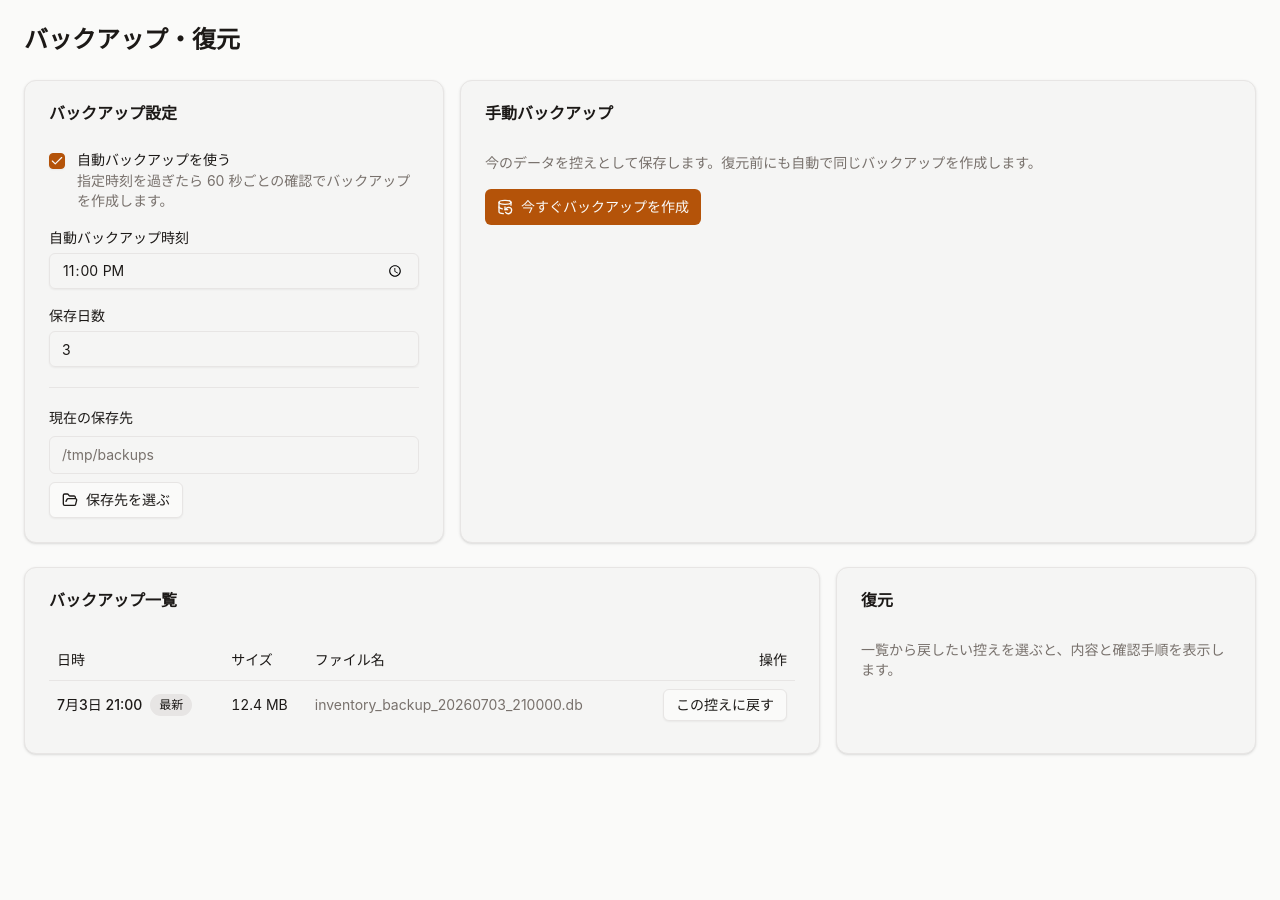
Test: BackupRestorePage (UI-11b / QR-05 / REQ-905) › QR-05 REQ-905 branches restore failures by CmdError kind
Expected: the heading "バックアップ・復元" is shown, [24, 25, 240, 54]
Expected: the text "7月3日 21:00" is shown, [57, 696, 142, 712]
Click the button "この控えに戻す" at (725, 704), box [663, 688, 787, 720]
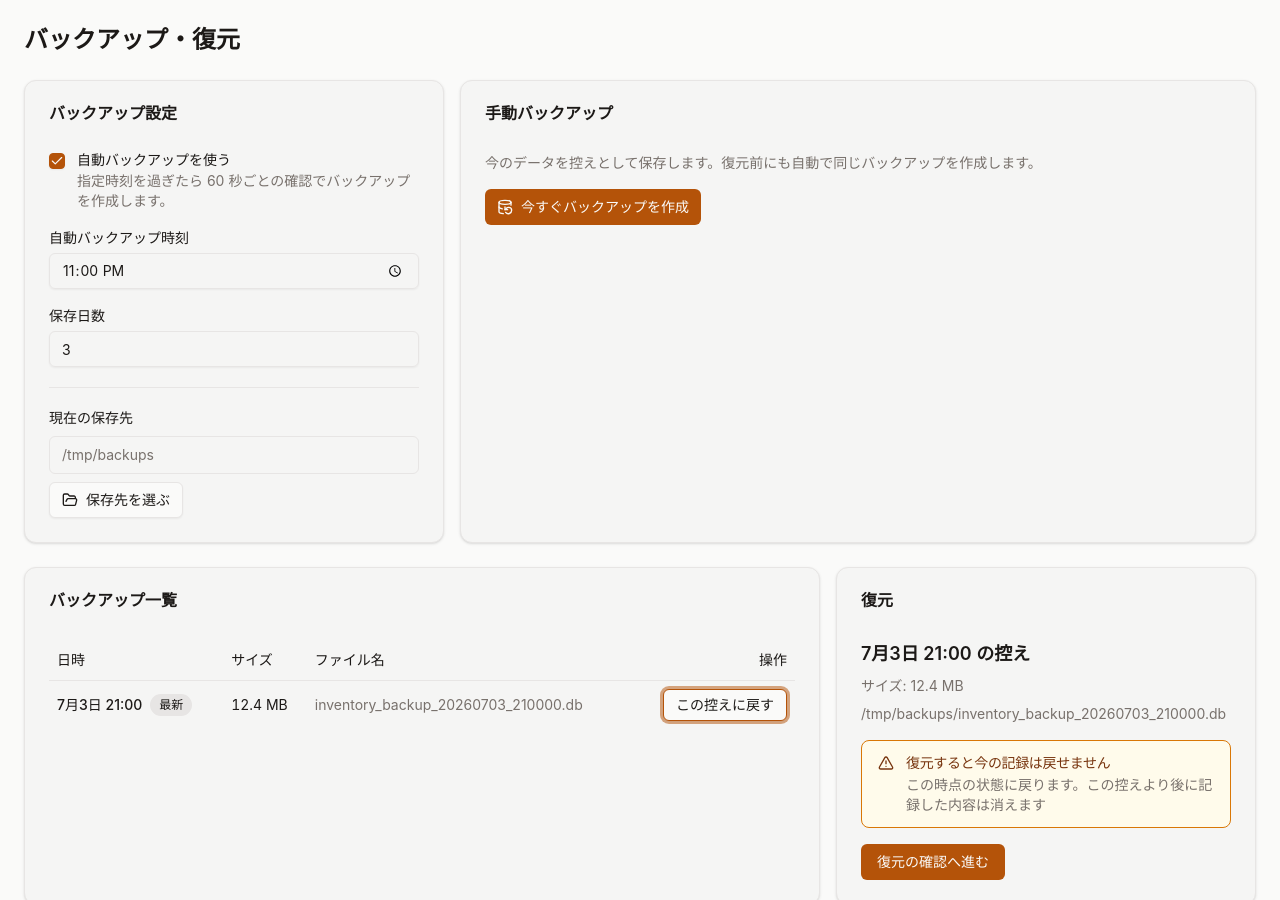
Expected: the text "この時点の状態に戻ります。この控えより後に記録した内容は消えます" is shown, [906, 775, 1214, 815]
Click the button "復元の確認へ進む" at (933, 862), box [861, 844, 1005, 880]
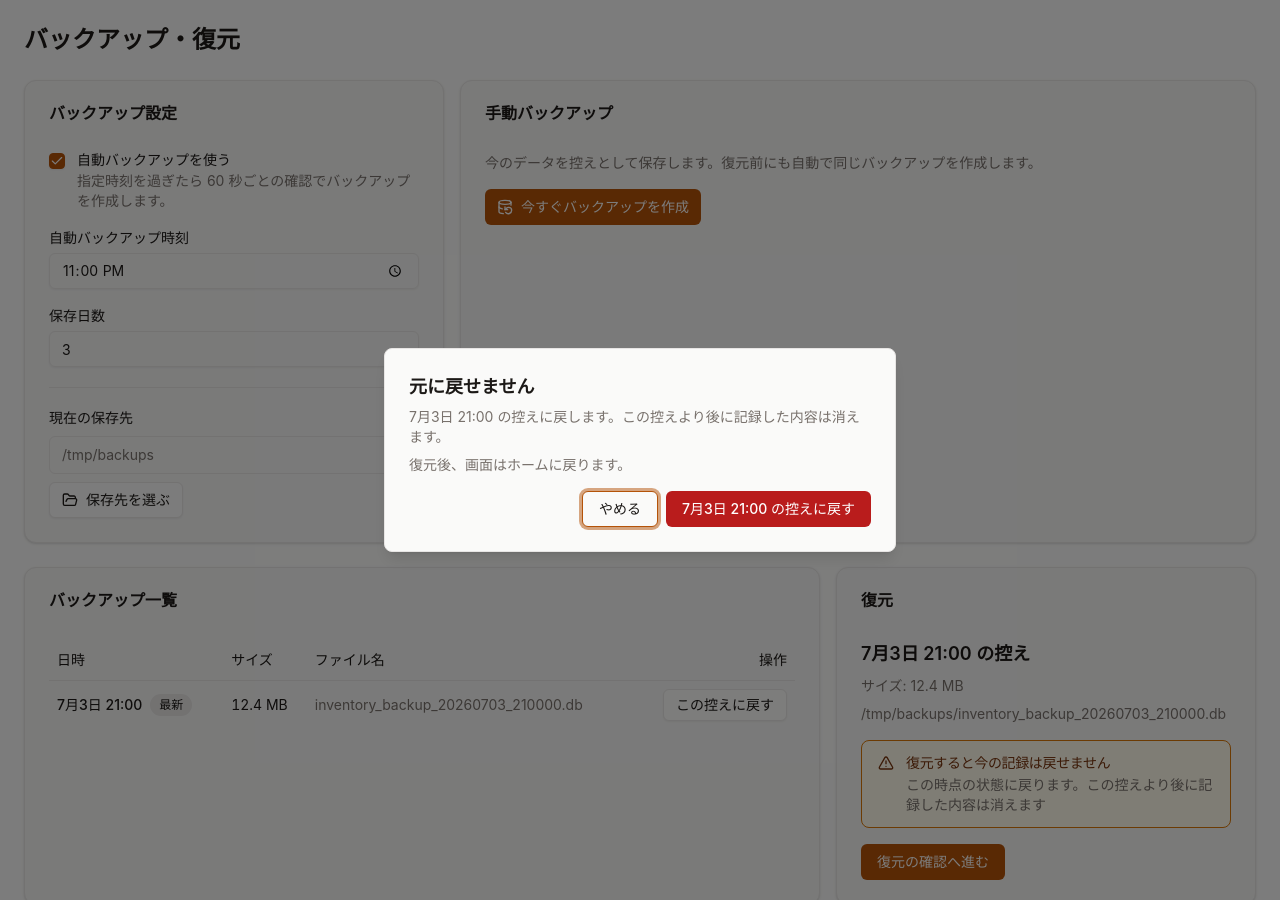
Click the button "7月3日 21:00 の控えに戻す" at (768, 509), box [666, 491, 871, 527]
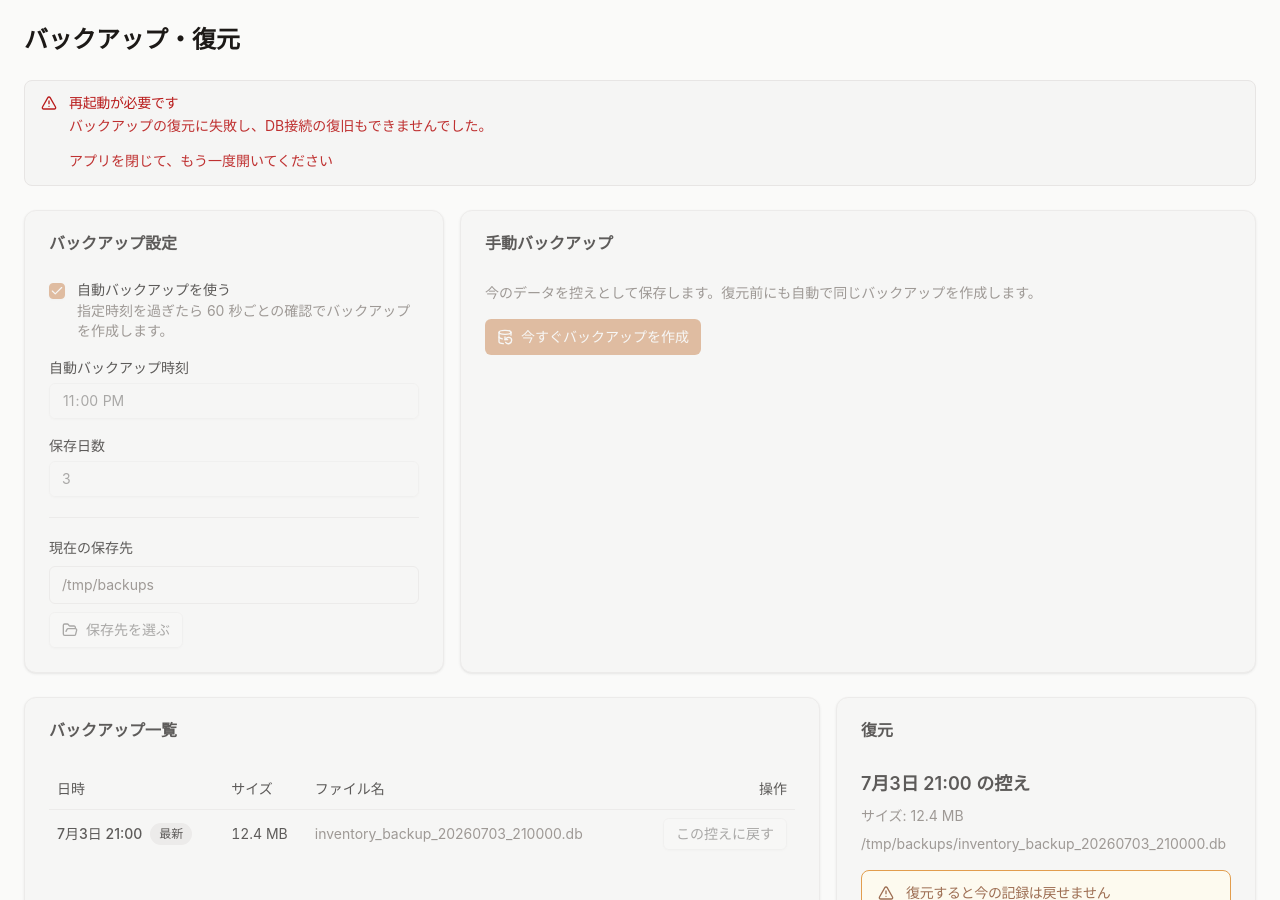
Expected: the text "再起動が必要です" is shown, [69, 94, 178, 111]
